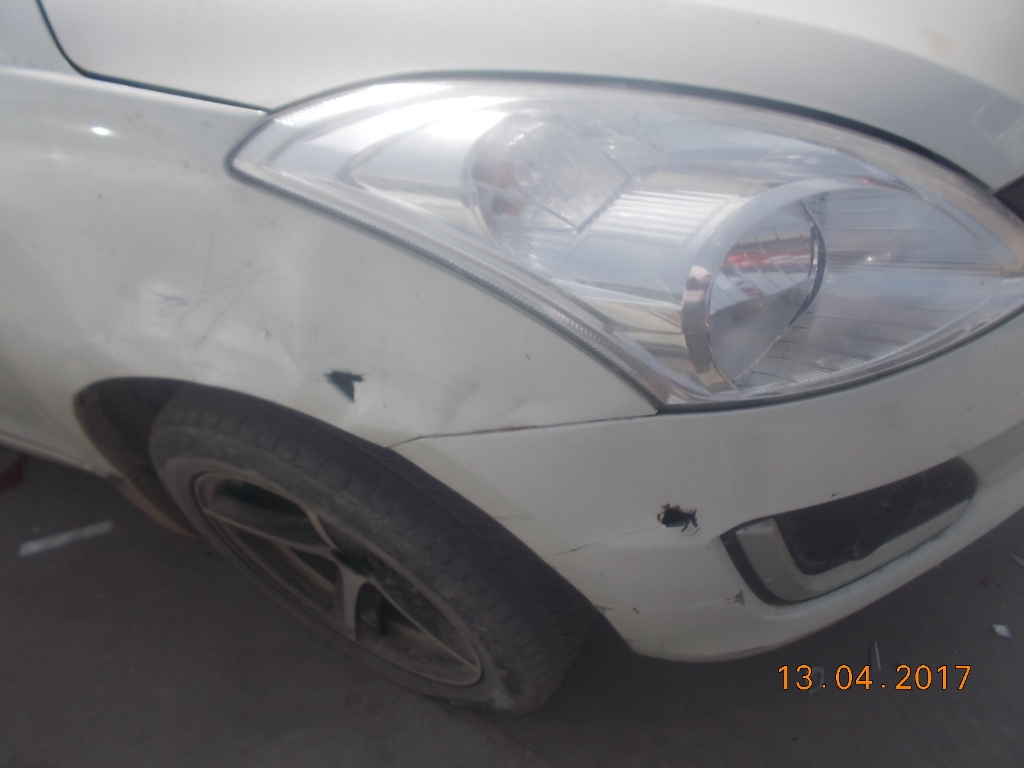Tear: (663, 490, 714, 542), (322, 359, 369, 409)
